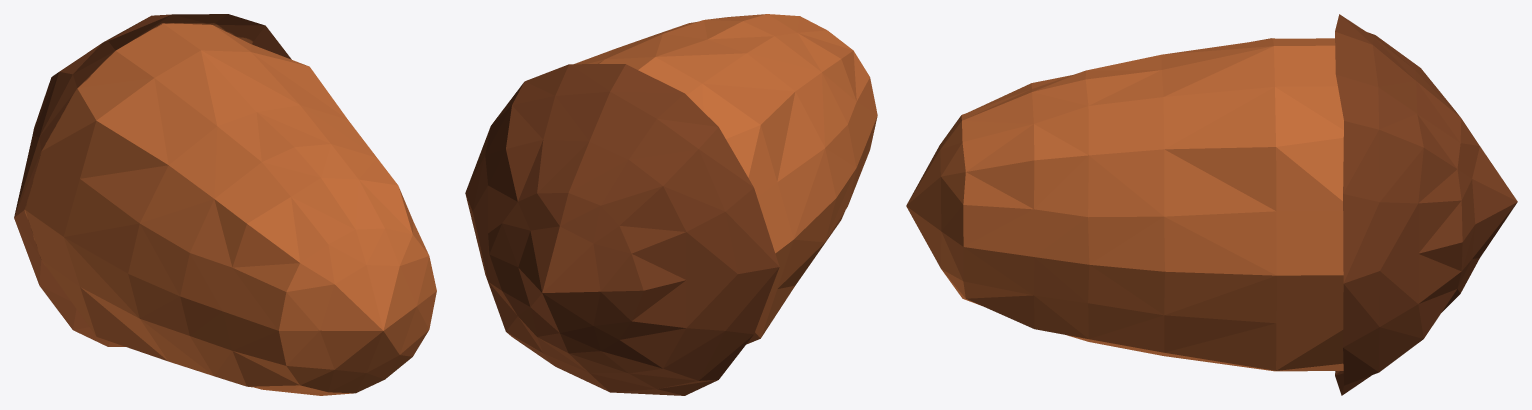
The model's file is hammer.obj.
3 renders of one model, left to right at view 1: azimuth 30°, elevation 25°; view 2: azimuth 150°, elevation 25°; view 3: azimuth 270°, elevation 25°, orthographic. The views are drawn at different scales.
Visible parts, largest first — view 1: Cube; view 2: Cube; view 3: Cube.
Boxes of the visible parts, <box> form: Cube: <box>14,14,436,395</box>; Cube: <box>465,14,877,395</box>; Cube: <box>906,14,1517,395</box>.
Size of the model in its own units: 1.68 by 1.69 by 2.73.
1 material, 1 textured.
